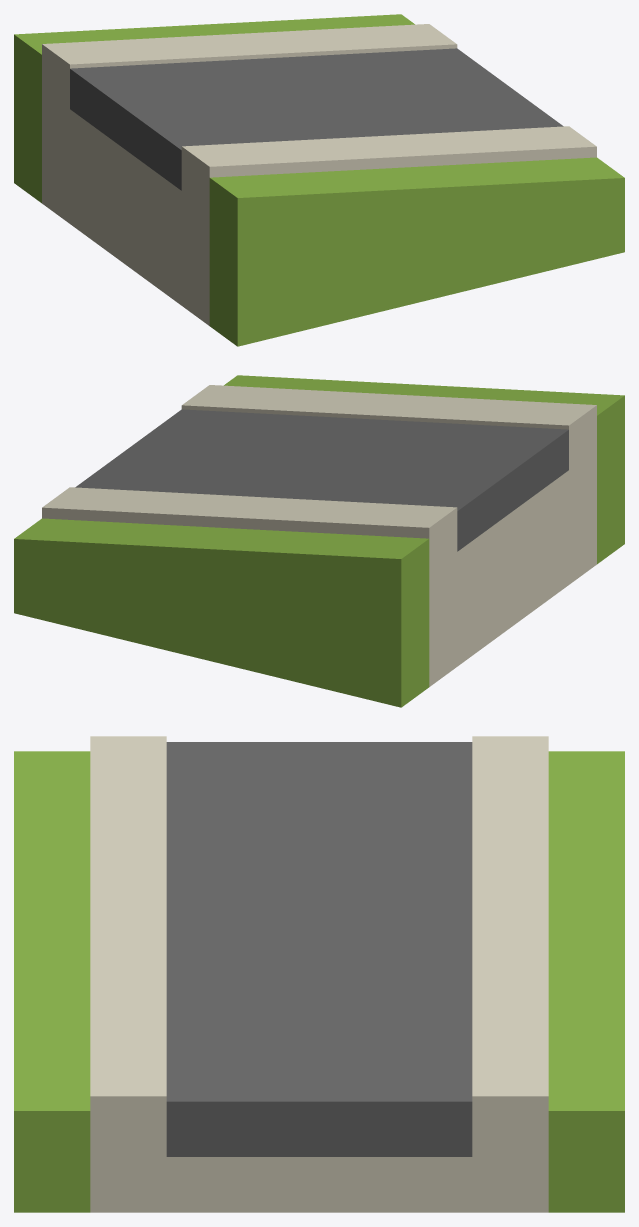
The model's file is tile106.dae.
3 views of the same model, one above another, from view 1: azimuth 30°, elevation 25°; view 2: azimuth 150°, elevation 25°; view 3: azimuth 270°, elevation 25° (orthographic). The views are drawn at different scales.
Visible parts, largest first — view 1: tile106; view 2: tile106; view 3: tile106.
Boxes of the visible parts, x1,y1,x2,y2 form: tile106: (14,14,624,346); tile106: (14,375,624,707); tile106: (14,736,624,1212).
Bounding box in the file's own units: 1 × 0.3933 × 1.
